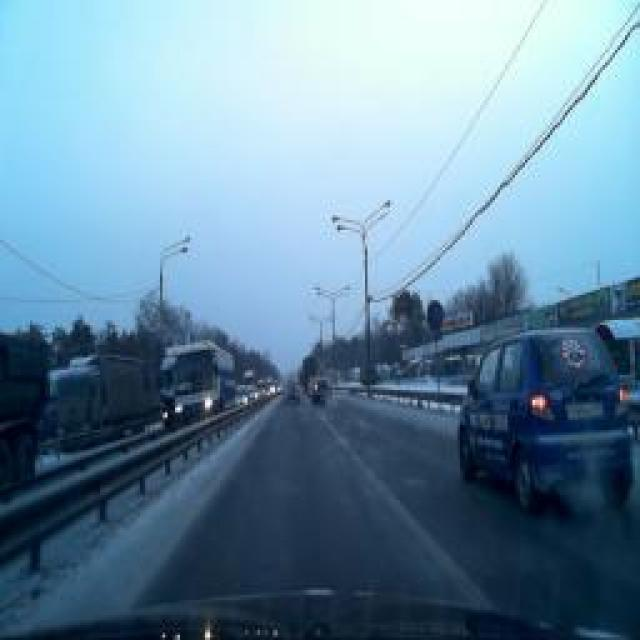sign: (425, 299, 445, 331)
